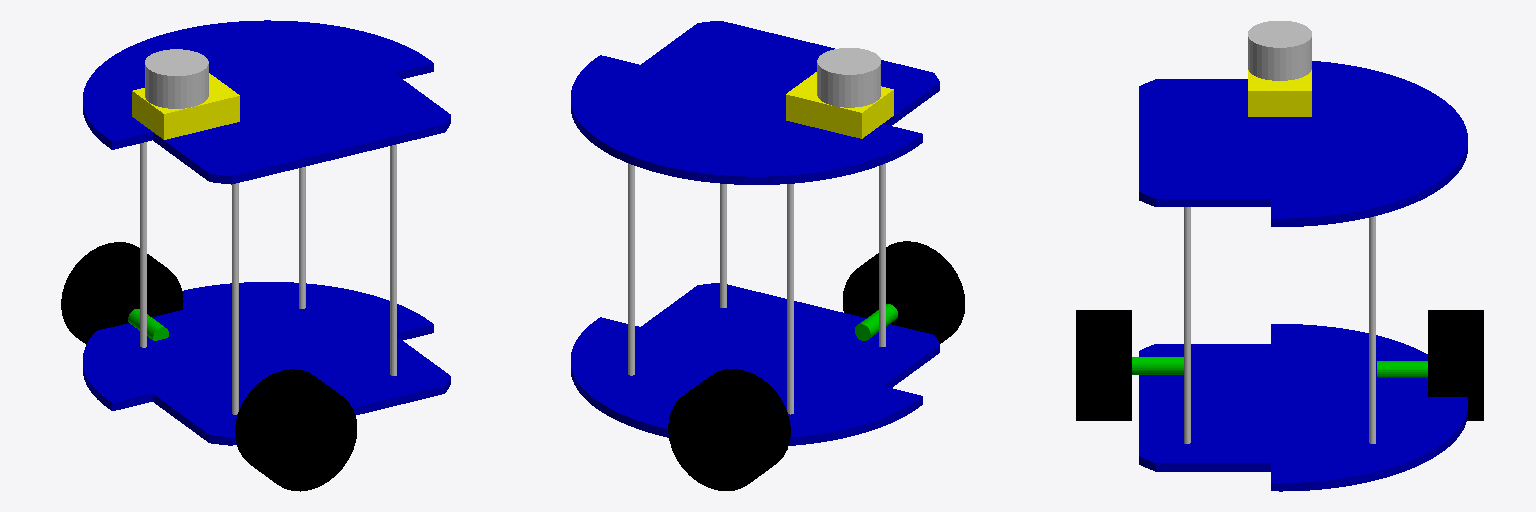
URDF robot description (myrobot):
<?xml version="1.0"?>
<robot name="myrobot">
  <material name="white">
    <color rgba="0.87 0.90 0.87 1.0"/>
  </material>
  <material name="black">
    <color rgba="0.0 0.0 0.0 1.0"/>
  </material>
  <material name="green">
    <color rgba="0.22 0.32 0.14 1.0"/>
  </material>
  <material name="Green">
    <color rgba="0.0 0.8 0.0 1.0"/>
  </material>
  <material name="OffWhite">
    <color rgba="0.8 0.8 0.8 1"/>
  </material>
  <material name="yellow">
     <color rgba="1 1 0 1"/>
  </material>

  <link name="base_link">
     <visual>
       <geometry>
          <!--<cylinder length="0.0042" radius="0.2" />-->
          <mesh filename="package://myrobot/meshes/ROS.stl" scale="0.001016 0.001016 0.001016"/>
       </geometry>
       <material name="blue">
         <color rgba="0 0 0.8 1" />
       </material>
       <origin rpy="0 0 0" xyz="0 0 0.04 " />
     </visual>
  </link>
<!--This is added to the last 4 supports-->
  <link name="right_wheel">
     <visual>
       <geometry>
          <cylinder length="0.06" radius="0.06" />
       </geometry>
       <origin xyz="0 0 0.04 " />
       <material name="black"/>
     </visual>
  </link>

   <joint name="right_wheel_joint" type="continuous">
      <parent link="base_link" />
      <child  link="right_wheel" />
       <axis xyz="0 0 1" />
      <origin rpy="0 1.57075 1.57075" xyz="-0.075 -0.23 0.06" />
      <!--<origin rpy="0 1.57057 0" xyz="0.19 0.075 0.02" />-->
   </joint>

   <link name="right_wheel_axis">
      <visual>
        <geometry>
           <cylinder length="0.06" radius="0.01" />
        </geometry>
        <origin xyz="0 0 0.04 " />
        <material name="Green" />
      </visual>
   </link>

   <joint name="right_wheel_axis_joint" type="fixed">
      <parent link="base_link" />
      <child  link="right_wheel_axis" />
      <origin rpy="0 1.57075 1.57075" xyz="-0.075 -0.17 0.06" />
      <!--<origin rpy="0 1.57057 0" xyz="0.13 0.075 0.02" />-->
   </joint>

  <link name="left_wheel">
     <visual>
       <geometry>
          <cylinder length="0.06" radius="0.06" />
       </geometry>
        <!--<origin rpy="0 -1.57057 0" xyz="-0.19 0.075 0" />-->
        <origin xyz="0 0 0.04 " />
       <material name="black" />
     </visual>
  </link>

  <joint name="left_wheel_joint" type="continuous">
      <parent link="base_link" />
      <child  link="left_wheel" />
      <axis xyz="0 0 1" />
      <!--<origin rpy="0 -1.57057 0" xyz="-0.19 0.075 0.02" />-->
      <origin rpy="0 -1.57075 1.57075" xyz="-0.075 0.23 0.06" />
  </joint>

  <link name="left_wheel_axis">
      <visual>
        <geometry>
           <cylinder length="0.06" radius="0.01" />
        </geometry>
        <origin xyz="0 0 0.035" />
        <material name="Green" />
      </visual>
  </link>

  <joint name="left_wheel_axis_joint" type="fixed">
      <parent link="base_link" />
      <child  link="left_wheel_axis" />
      <!--<origin rpy="0 -1.57057 0" xyz="-0.13 0.075 0.02" />-->
      <origin rpy="0 -1.57075 1.57075" xyz="-0.075 0.17 0.055" />
  </joint>
<!--End-->

<!--This is added to the last 4 supports-->

  <link name="left_brace_front">
    <visual>
       <geometry>
          <cylinder length="0.32" radius="0.004" />
       </geometry>
       <material name="green">
          <color rgba=".86 .86 .86 1" />
       </material>
    </visual>
  </link>

  <joint name="left_brace_front_joint" type="fixed">
     <parent link="base_link" />
     <child  link="left_brace_front"/>
     <origin xyz="0.1 0.1 0.2" />
  </joint>

  <link name="left_brace_back">
    <visual>
       <geometry>
          <cylinder length="0.32" radius="0.004" />
       </geometry>
       <material name="green">
          <color rgba="0.86 0.86 0.86 1" />
       </material>
    </visual>
  </link>

  <joint name="left_brace_back_joint" type="fixed">
     <parent link="base_link" />
     <child  link="left_brace_back"/>
     <origin xyz="0.1 -0.1 0.2" />
  </joint>

  <link name="right_brace_front">
    <visual>
       <geometry>
          <cylinder length="0.32" radius="0.004" />
       </geometry>
       <material name="green">
          <color rgba=".86 .86 .86 1" />
       </material>
    </visual>
  </link>

  <joint name="right_brace_front_joint" type="fixed">
     <parent link="base_link" />
     <child  link="right_brace_front"/>
     <origin xyz="-0.1 0.1 0.2" />
  </joint>

  <link name="right_brace_back">
    <visual>
       <geometry>
          <cylinder length="0.32" radius="0.004" />
       </geometry>
       <material name="green">
          <color rgba=".86 .86 .86 1" />
       </material>
    </visual>
  </link>

  <joint name="right_brace_back_joint" type="fixed">
     <parent link="base_link" />
     <child  link="right_brace_back"/>
     <origin xyz="-0.1 -0.1 0.2" />
  </joint>
<!--End-->

<!--This is the rplidar-->
    <link name="rplidar">
       <visual>
         <geometry>
            <cylinder length="0.046" radius="0.035"/> 
         </geometry>
         <origin xyz="0 0 0.04" />
         <material name="OffWhite" />
       </visual>
    </link>

    <joint name="rplidar_joint" type="fixed">
       <parent link="rplidar_bottom" />
       <child  link="rplidar"/>
       <!--<origin xyz="0 0.012 0.033" />-->
       <origin rpy="0 0 1.57075" xyz="0 0.012 0.033" />
    </joint>

    <link name="rplidar_bottom">
      <visual>
         <geometry>
            <box size="0.07 0.096 0.033" />
         </geometry>
         <origin xyz="0 0 0.04" />
         <material name="yellow" />
      </visual>
    </link>
  
    <joint name="rplidar_bottom_joint" type="fixed">
       <parent link="base_link" />
       <child  link="rplidar_bottom" />
       <!--<origin  xyz="0 0.104 0.34" />-->
       <origin rpy="0 0 1.57075" xyz="-0.104 0 0.34" />
    </joint>
<!--End-->

</robot>

--- Facts derived from the render (not from the file) ---
The picture shows the robot from 3 angles, left to right: view 1: azimuth 30°, elevation 25°; view 2: azimuth 150°, elevation 25°; view 3: azimuth 270°, elevation 25°; orthographic projection.
Model myrobot with 11 links and 10 joints (2 continuous, 8 fixed), rooted at base_link, posed all joints at 0.
Links seen in each view (by area): view 1: base_link, right_wheel, left_wheel, rplidar_bottom, rplidar, left_brace_back, right_brace_back, right_brace_front, left_brace_front, left_wheel_axis; view 2: base_link, left_wheel, right_wheel, rplidar_bottom, rplidar, right_brace_front, left_brace_front, right_brace_back, left_brace_back, right_wheel_axis; view 3: base_link, right_wheel, left_wheel, rplidar, rplidar_bottom, left_brace_back, left_brace_front, right_wheel_axis, left_wheel_axis.
Link boxes in pixels (x1,y1,x2,y2): base_link: (83,20,450,445); right_wheel: (235,369,356,491); left_wheel: (61,242,183,344); rplidar_bottom: (132,73,239,139); rplidar: (145,49,208,108); left_brace_back: (390,144,396,375); right_brace_back: (232,183,238,414); right_brace_front: (140,142,146,347); left_brace_front: (299,167,305,308); left_wheel_axis: (128,309,168,340); base_link: (571,21,939,445); left_wheel: (668,369,790,490); right_wheel: (843,241,964,343); rplidar_bottom: (786,72,893,138); rplidar: (817,48,880,107); right_brace_front: (787,184,793,414); left_brace_front: (628,163,634,375); right_brace_back: (879,163,885,346); left_brace_back: (720,184,726,307); right_wheel_axis: (855,304,897,340); base_link: (1139,61,1467,491); right_wheel: (1076,310,1131,420); left_wheel: (1428,310,1483,420); rplidar: (1248,21,1311,80); rplidar_bottom: (1248,70,1311,116); left_brace_back: (1184,207,1190,443); left_brace_front: (1369,216,1375,443); right_wheel_axis: (1132,357,1183,374); left_wheel_axis: (1377,361,1427,377).
Bounding box of the posed robot: 0.4064 × 0.44 × 0.436 m (x, y, z).
Meshes: 1 distinct files referenced, 1 mesh visuals loaded (1 binary STL).